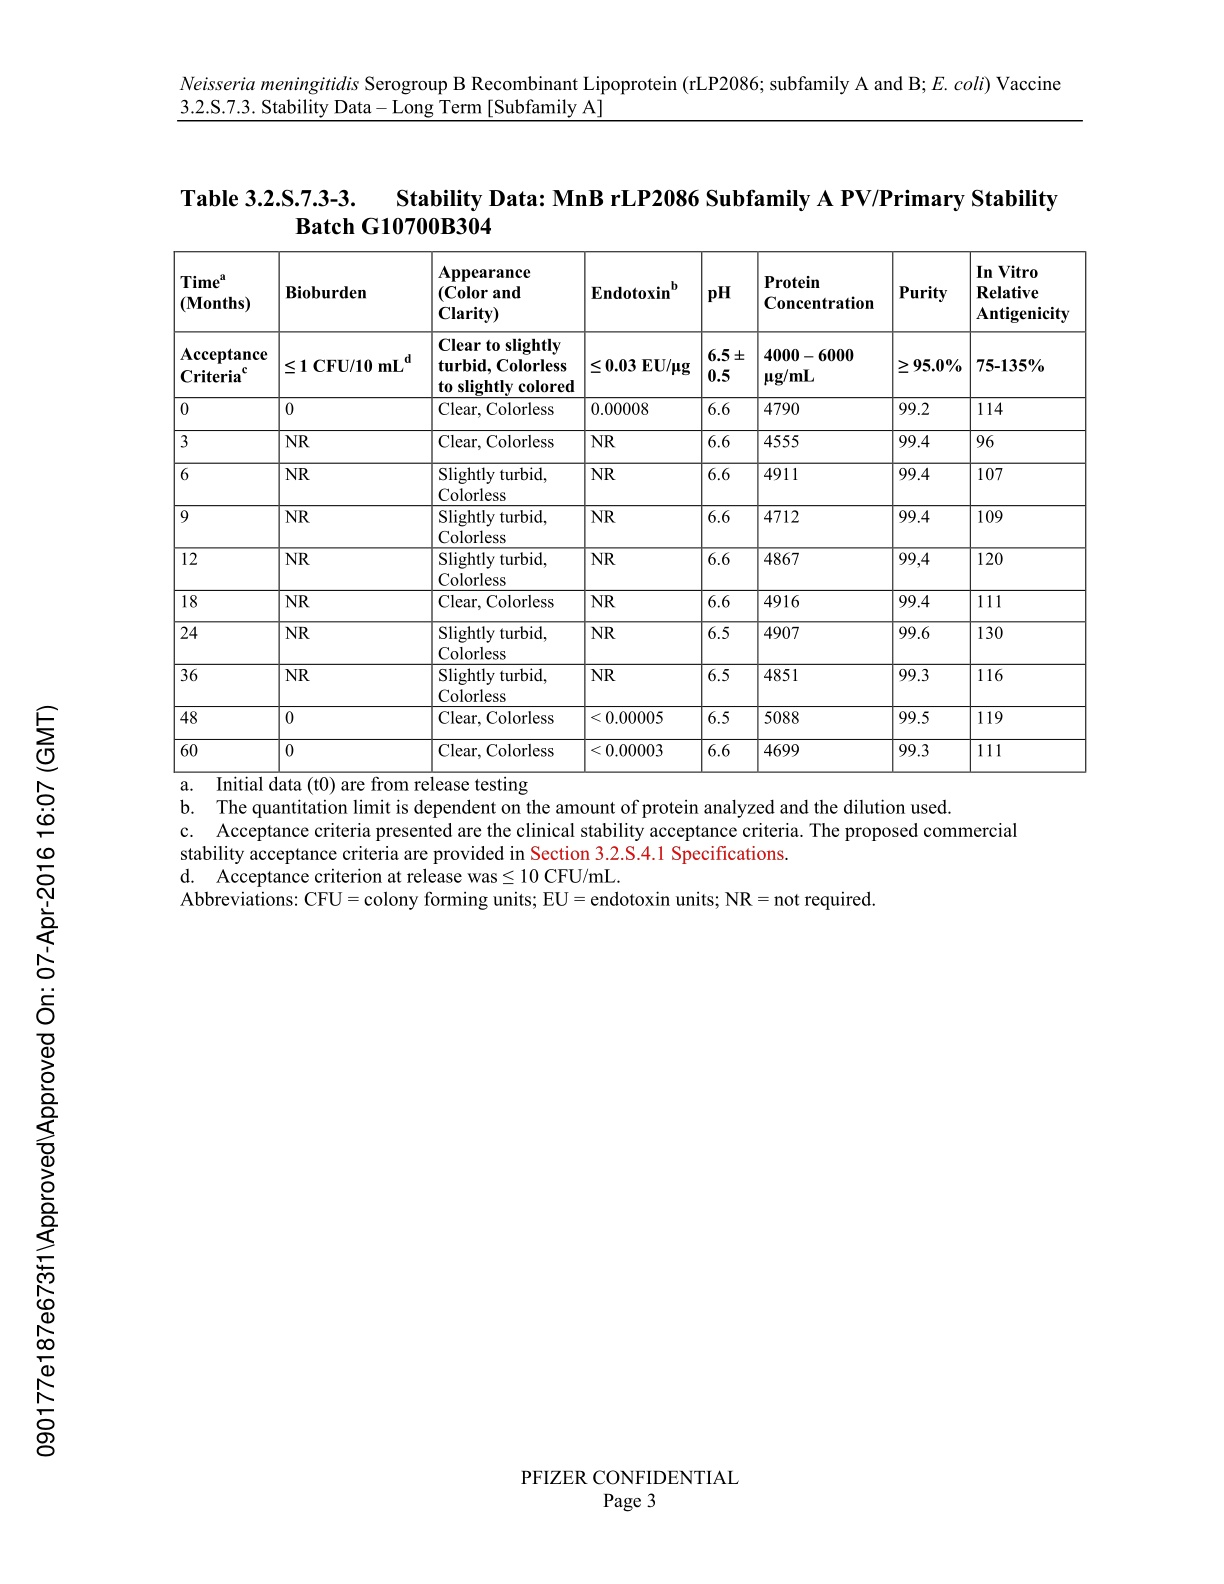full_lined: (174, 249, 1086, 774)
